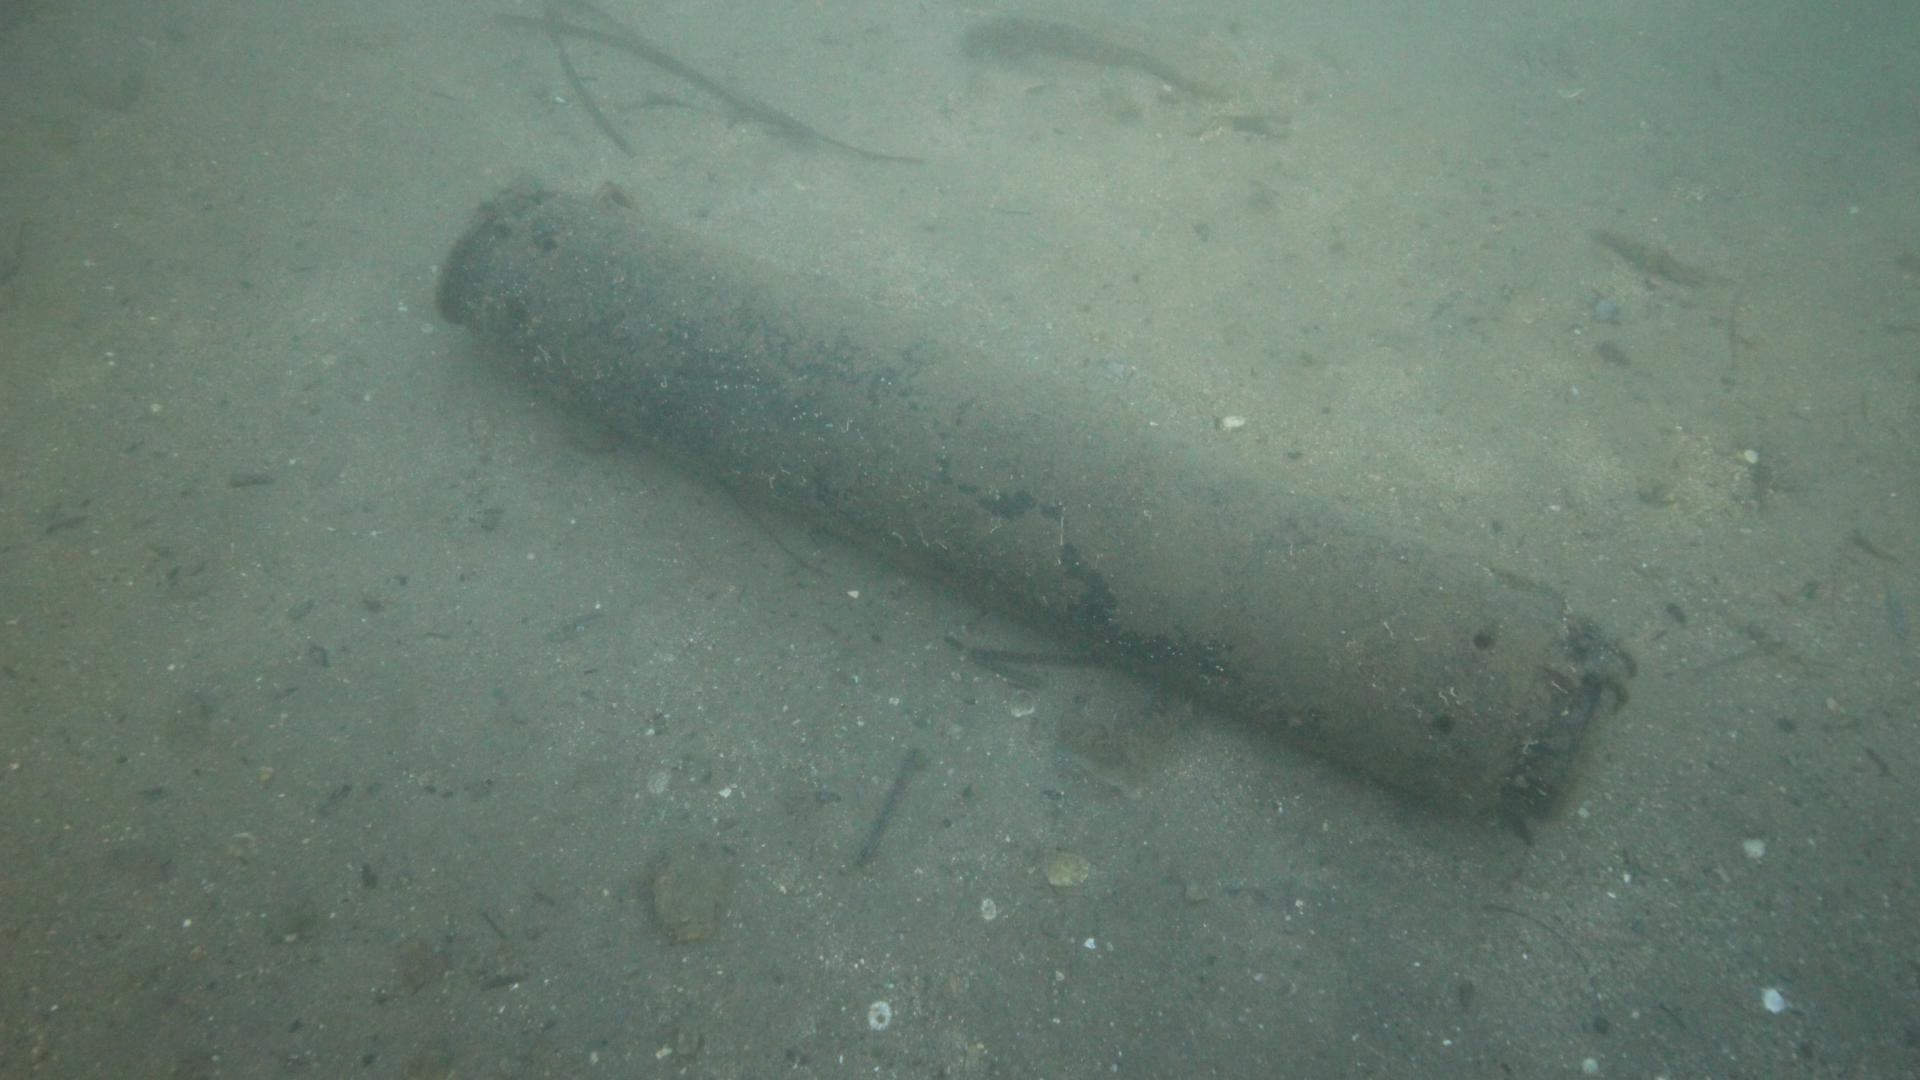eel fish trap: (435, 167, 1634, 833)
